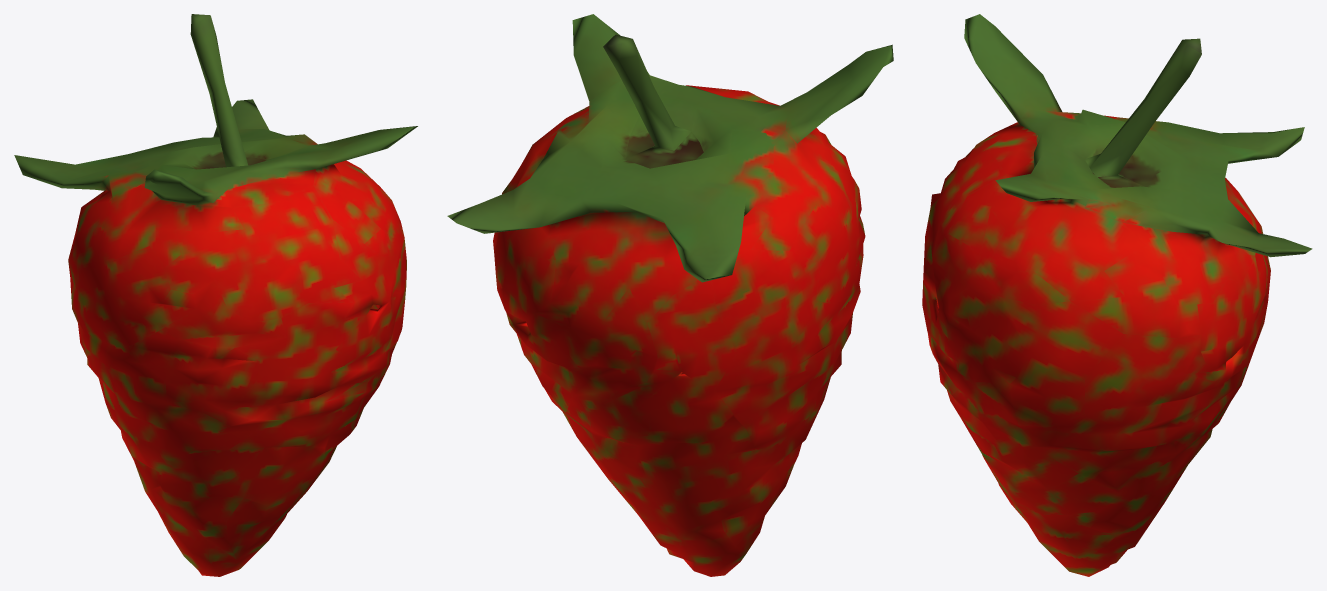
Rendered from strawberry.glb.
The picture shows the model from 3 angles, left to right: view 1: azimuth 30°, elevation 25°; view 2: azimuth 150°, elevation 25°; view 3: azimuth 270°, elevation 25°; orthographic projection. The views are drawn at different scales.
Parts seen in each view (by area): view 1: part_0_body.004_4.001; view 2: part_0_body.004_4.001; view 3: part_0_body.004_4.001.
Boxes of the visible parts, bbox=[...] form: part_0_body.004_4.001: bbox=[14, 14, 417, 576]; part_0_body.004_4.001: bbox=[447, 14, 893, 576]; part_0_body.004_4.001: bbox=[922, 14, 1312, 576].
Bounding box in the file's own units: 0.0696 × 0.118 × 0.0759.
2 materials, 2 textured.
